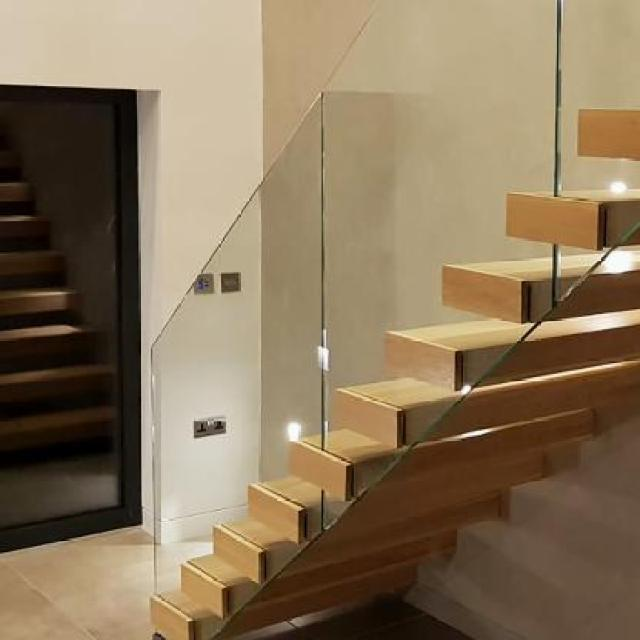stair: (132, 79, 638, 638)
